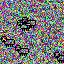sheep: (1, 35, 15, 47), (15, 45, 29, 57), (53, 52, 64, 63)
